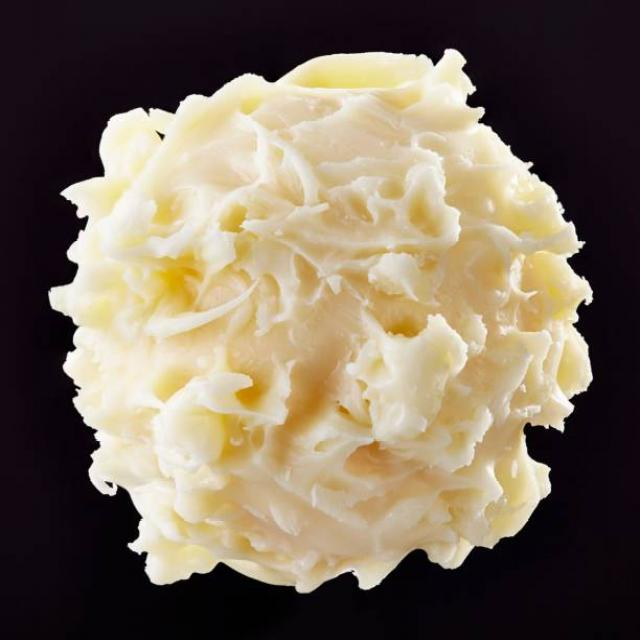Chocolate: (58, 45, 607, 596)
